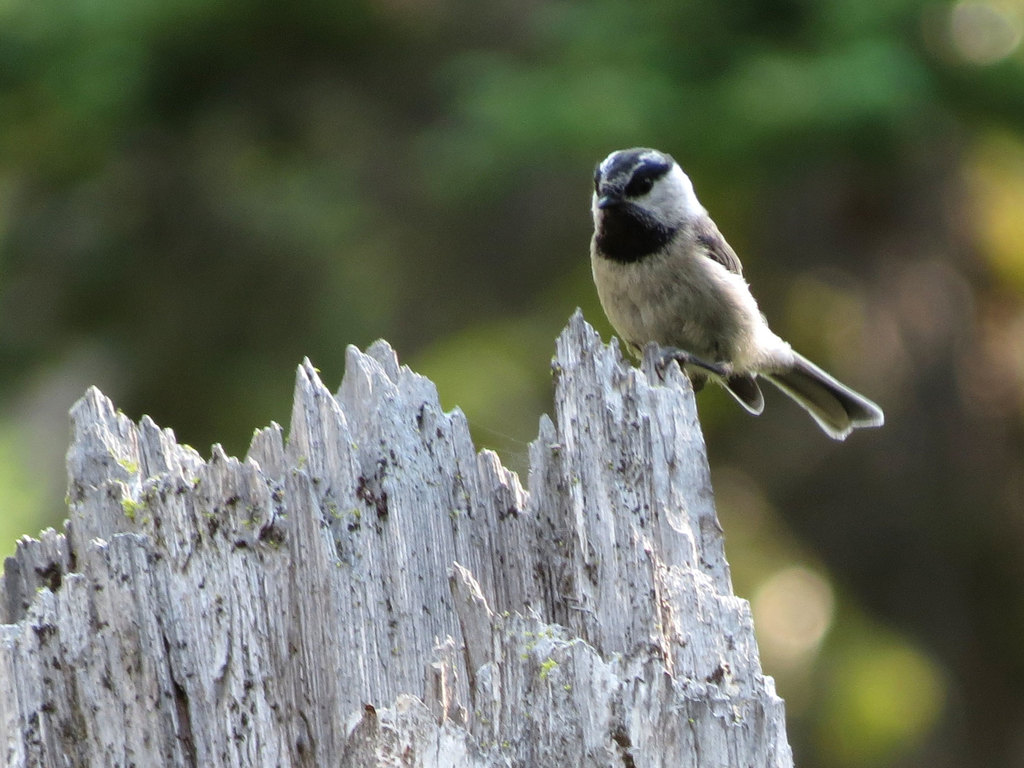Bird: (590, 146, 885, 442)
